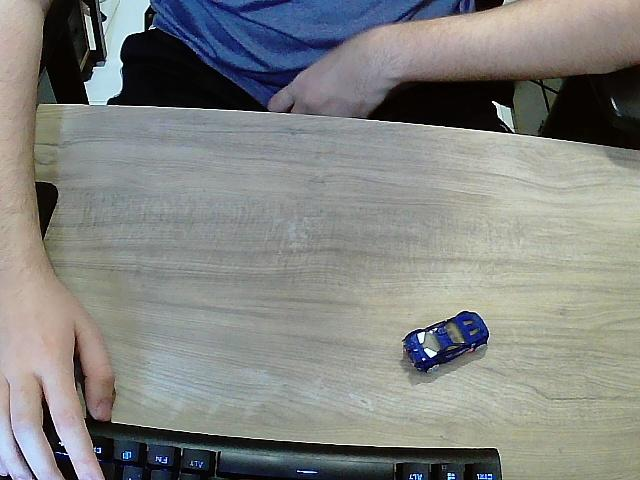Carro: (403, 311, 491, 377)
